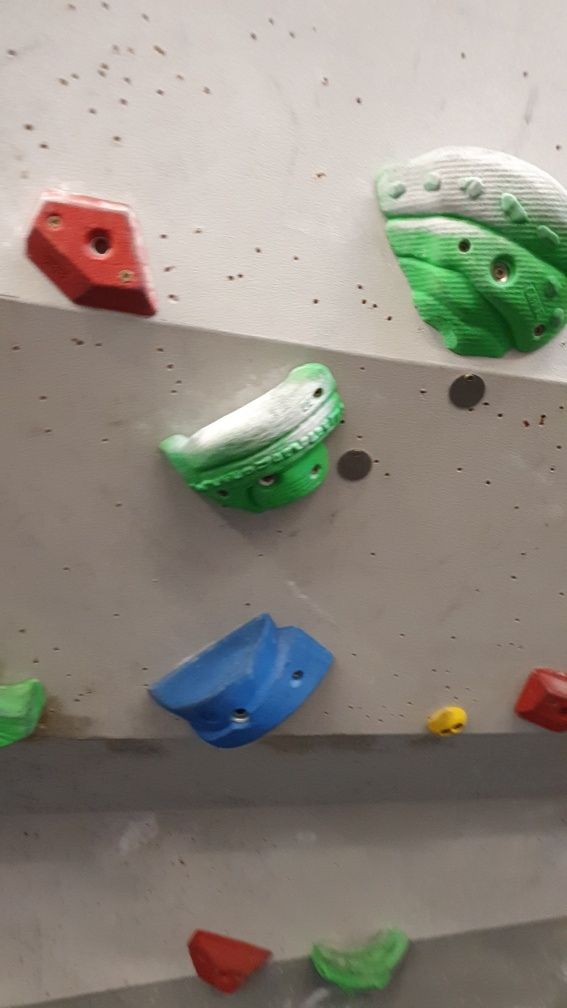Crimp: (22, 185, 160, 323)
Hand Start: (444, 368, 492, 415), (331, 441, 370, 488)
Jug: (367, 144, 567, 366), (151, 354, 349, 525), (313, 923, 411, 992)
Pinch: (143, 612, 339, 754)
